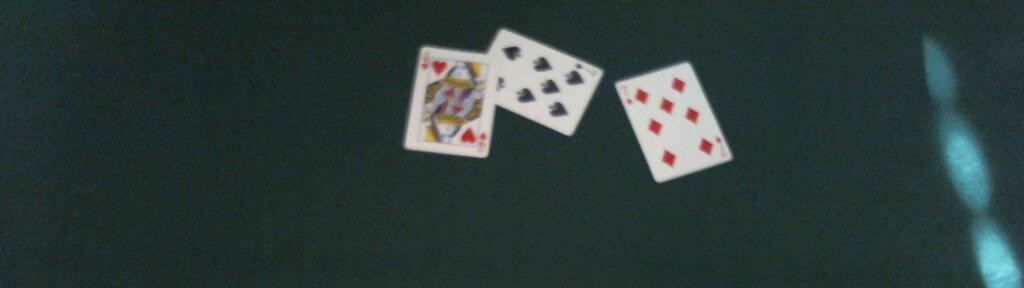queen: (402, 45, 501, 157)
seven: (613, 60, 735, 182), (489, 27, 604, 135)
